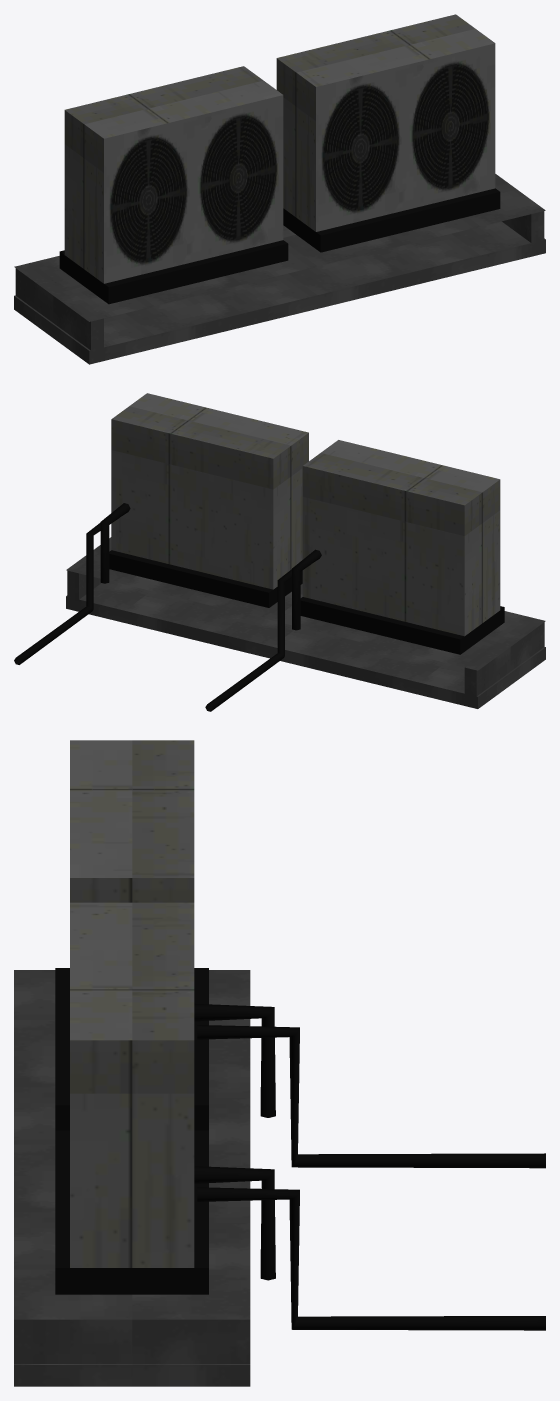
The model's file is rooftop_condenser_pair.glb.
The picture shows the model from 3 angles, top to bottom: view 1: azimuth 30°, elevation 25°; view 2: azimuth 150°, elevation 25°; view 3: azimuth 270°, elevation 25°; orthographic projection. The views are drawn at different scales.
Visible parts, largest first — view 1: condenser_pair_body; view 2: condenser_pair_body; view 3: condenser_pair_body.
Boxes of the visible parts, x1=… form: condenser_pair_body: x1=14, y1=14, x2=545, y2=364; condenser_pair_body: x1=14, y1=393, x2=545, y2=711; condenser_pair_body: x1=14, y1=740, x2=545, y2=1386.
Size of the model in its own units: 2.8 by 1.2 by 1.8.
Materials: 1 (1 with a texture image).
